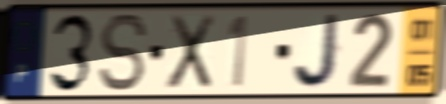1: (226, 13, 250, 91)
2: (347, 10, 398, 92)
3: (44, 11, 98, 95)
J: (290, 11, 344, 92)
S: (97, 11, 151, 95)
X: (163, 12, 218, 93)
